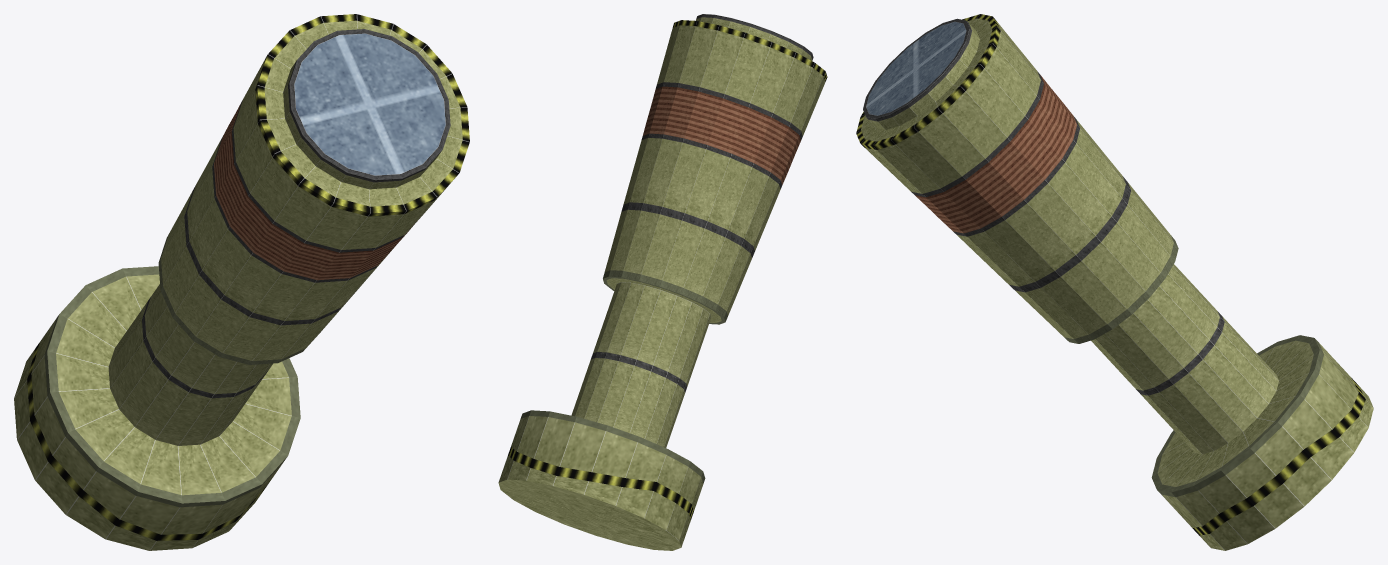
The model's file is Medium2.fbx.
The picture shows the model from 3 angles, left to right: view 1: azimuth 30°, elevation 25°; view 2: azimuth 150°, elevation 25°; view 3: azimuth 270°, elevation 25°; orthographic projection. The views are drawn at different scales.
Visible parts, largest first — view 1: Part_2; view 2: Part_2; view 3: Part_2.
Part boxes in pixels (left/top/right/bottom): Part_2: left=14, top=14, right=469, bottom=550; Part_2: left=498, top=14, right=827, bottom=550; Part_2: left=856, top=14, right=1373, bottom=550.
Bounding box in the file's own units: 37.18 × 96.8 × 89.1.
